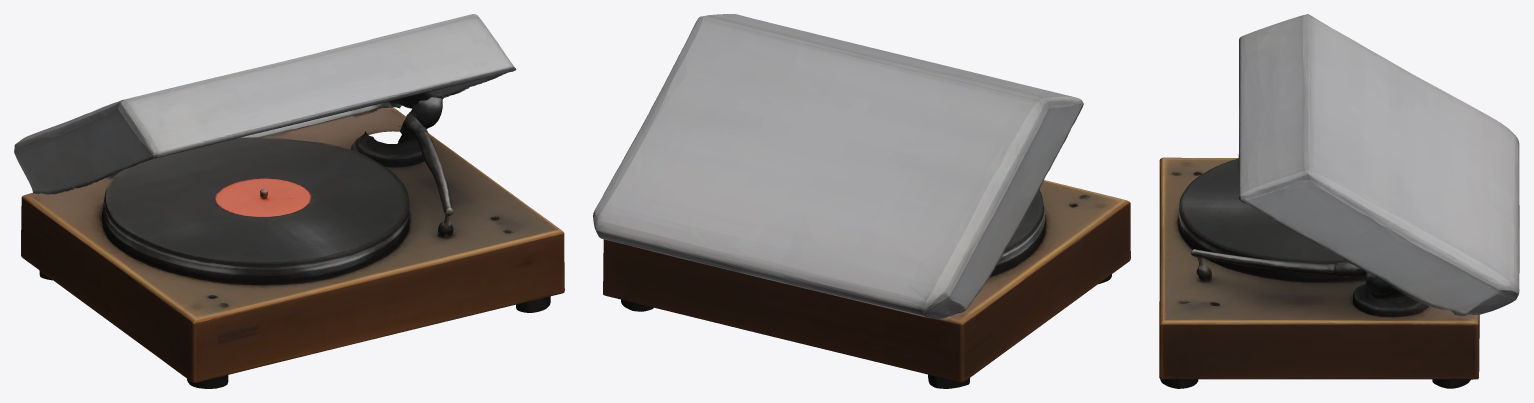
3 renders of one model, left to right at view 1: azimuth 30°, elevation 25°; view 2: azimuth 150°, elevation 25°; view 3: azimuth 270°, elevation 25°, orthographic. The views are drawn at different scales.
Visible parts, largest first — view 1: geometry_0; view 2: geometry_0; view 3: geometry_0.
Boxes of the visible parts, <box> form: geometry_0: <box>14,14,564,388</box>; geometry_0: <box>593,14,1130,388</box>; geometry_0: <box>1159,14,1519,388</box>.
Size of the model in its own units: 0.9998 by 0.6055 by 0.9134.
Materials: 1 (1 with a texture image).
